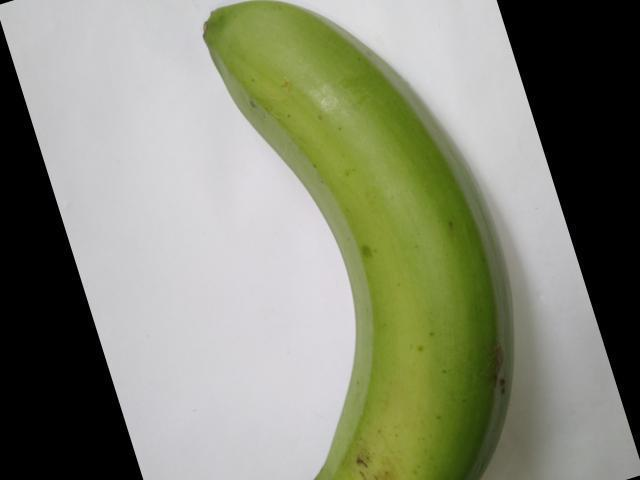freshunripe: (173, 0, 540, 479)
